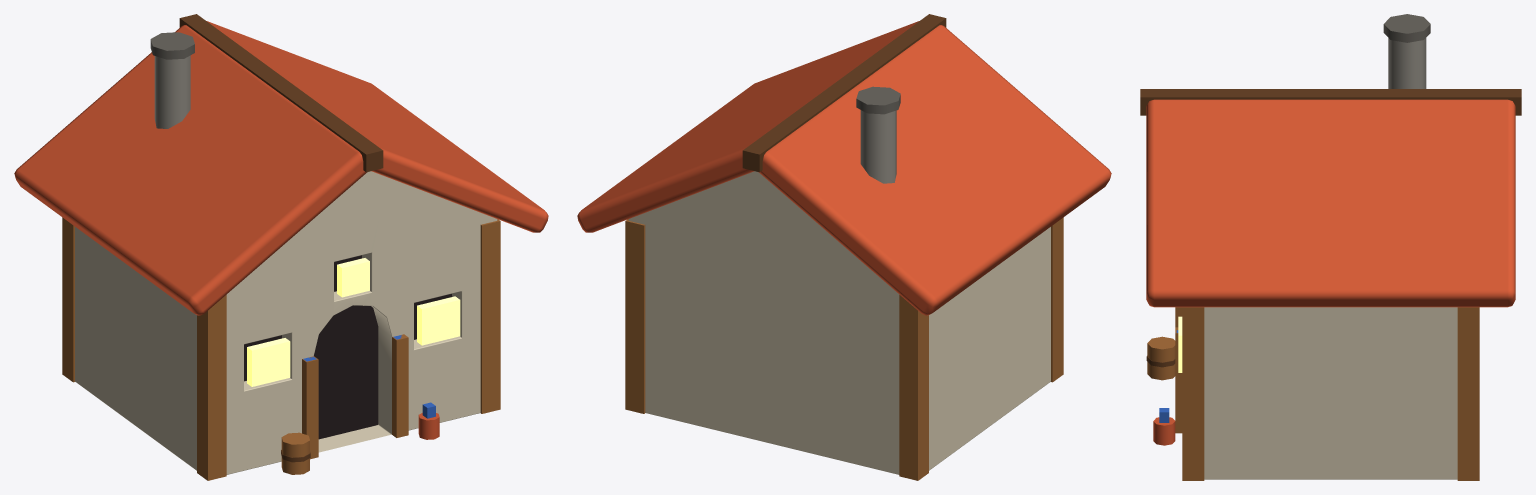
Rendered from Buildings__cottage.glb.
3 views of the same model, side by side, from view 1: azimuth 30°, elevation 25°; view 2: azimuth 150°, elevation 25°; view 3: azimuth 270°, elevation 25° (orthographic). The views are drawn at different scales.
Parts seen in each view (by area): view 1: cottage_mesh; view 2: cottage_mesh; view 3: cottage_mesh.
Part boxes in pixels (x1,y1,x2,y2): cottage_mesh: (14, 14, 548, 480); cottage_mesh: (577, 14, 1111, 480); cottage_mesh: (1140, 14, 1521, 480).
Size of the model in its own units: 2.11 by 1.91 by 1.9.
